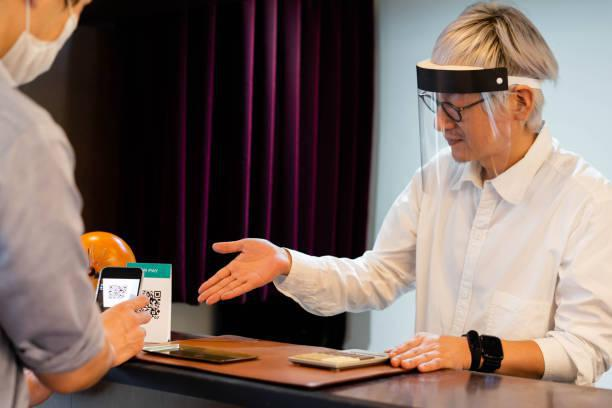Finder pattern: (152, 288, 163, 300)
